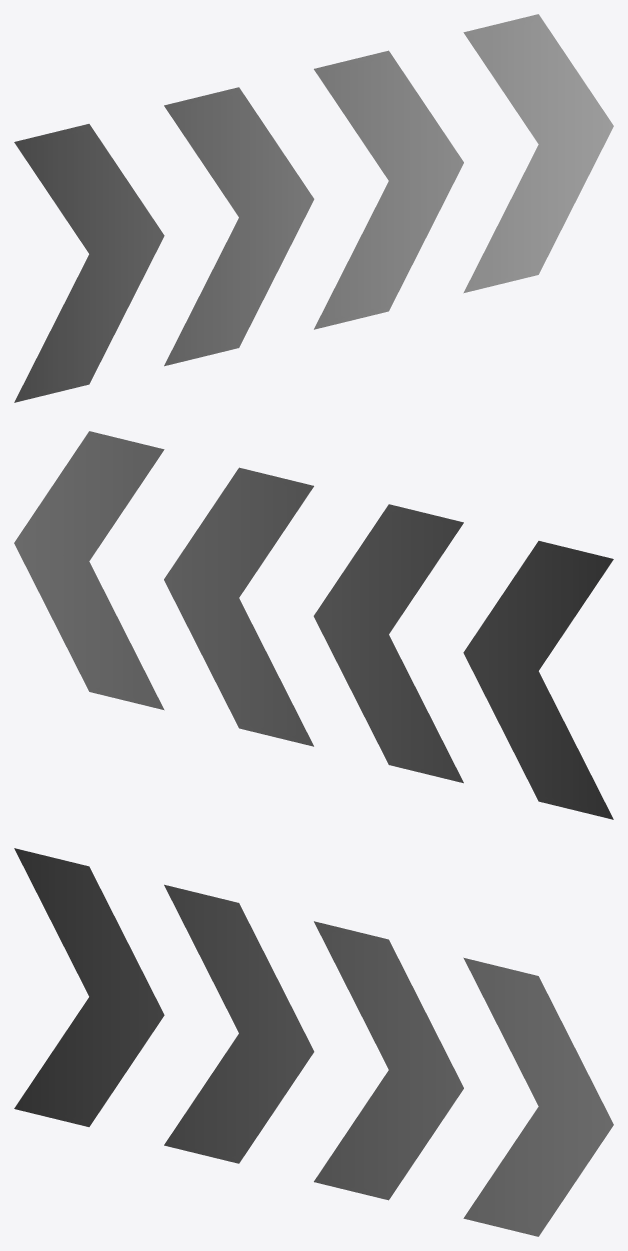
File: arrow.glb
The picture shows the model from 3 angles, top to bottom: view 1: azimuth 30°, elevation 25°; view 2: azimuth 150°, elevation 25°; view 3: azimuth 330°, elevation 25°; orthographic projection.
Parts seen in each view (by area): view 1: Plane.002; view 2: Plane.002; view 3: Plane.002.
Part boxes in pixels (x1,y1,x2,y2): Plane.002: (14,14,613,402); Plane.002: (14,431,613,819); Plane.002: (14,848,613,1236).
Bounding box in the file's own units: 0.6873 × 0.2856 × 3.02e-08.
Materials: 1 (1 with a texture image).
